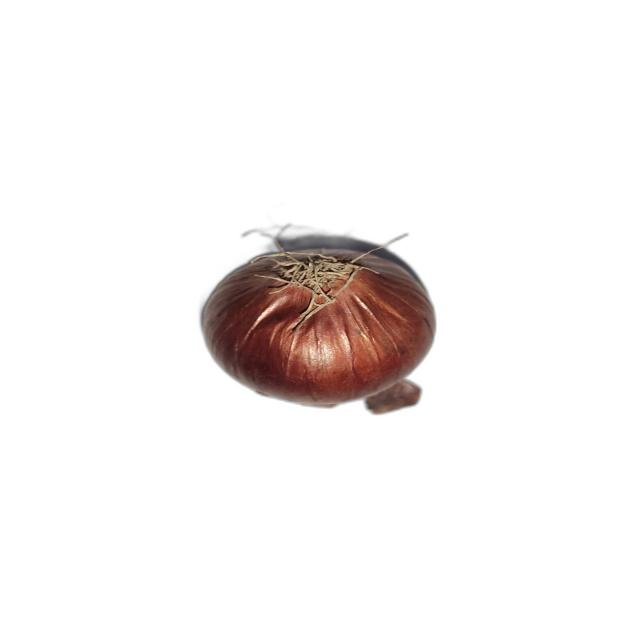onion: (199, 233, 438, 415)
